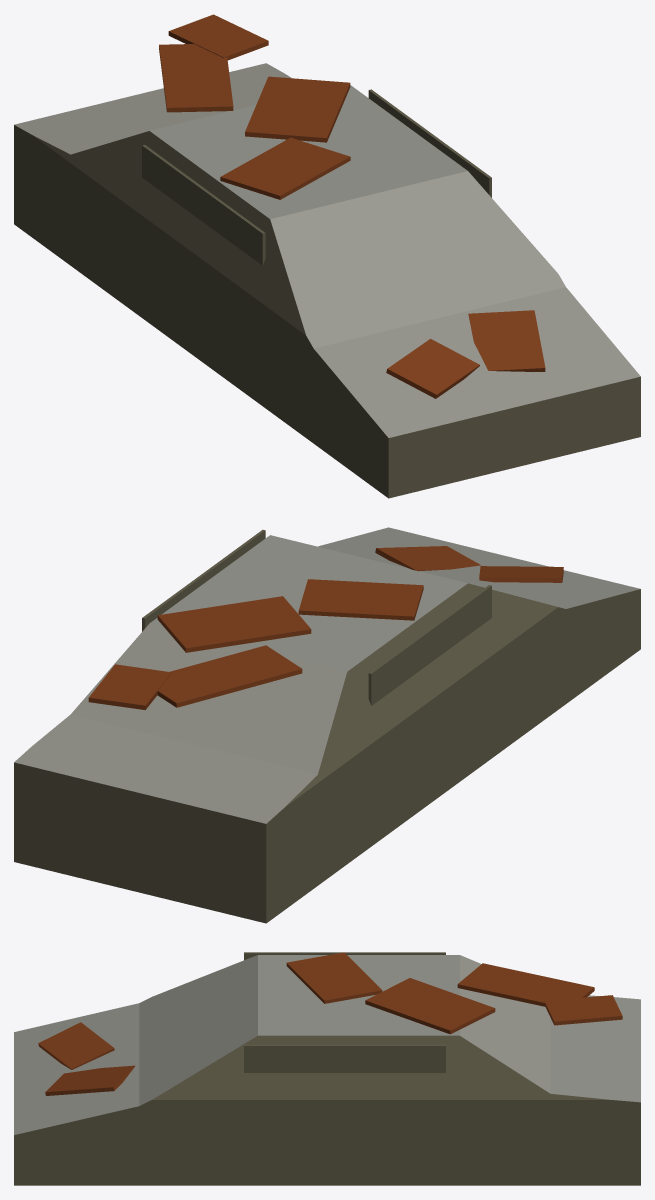
Rendered from SM_CocheCivil_Berlina_v4_LOD1.fbx.
The picture shows the model from 3 angles, top to bottom: view 1: azimuth 30°, elevation 25°; view 2: azimuth 150°, elevation 25°; view 3: azimuth 270°, elevation 25°; orthographic projection. The views are drawn at different scales.
Visible parts, largest first — view 1: SM_coche_civil_v9_LOD1; view 2: SM_coche_civil_v9_LOD1; view 3: SM_coche_civil_v9_LOD1.
Boxes of the visible parts, x1=… form: SM_coche_civil_v9_LOD1: x1=14, y1=14, x2=640, y2=498; SM_coche_civil_v9_LOD1: x1=14, y1=527, x2=640, y2=923; SM_coche_civil_v9_LOD1: x1=14, y1=952, x2=640, y2=1185.
Bounding box in the file's own units: 1.75 × 1.14 × 4.5.
